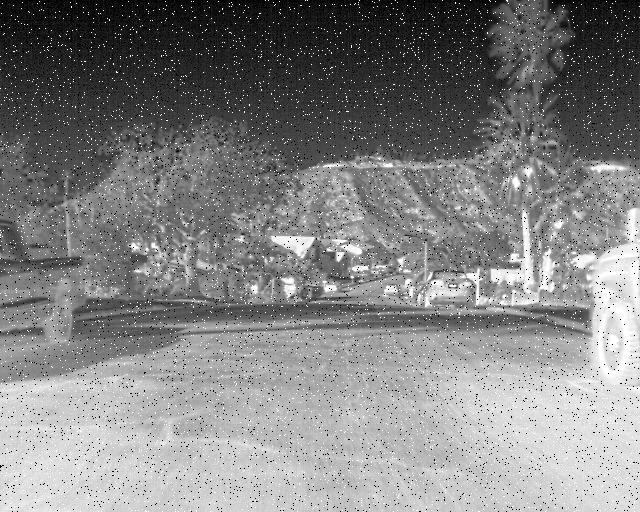car: (579, 208, 640, 393), (2, 216, 82, 335), (417, 258, 487, 332), (378, 274, 405, 305)
